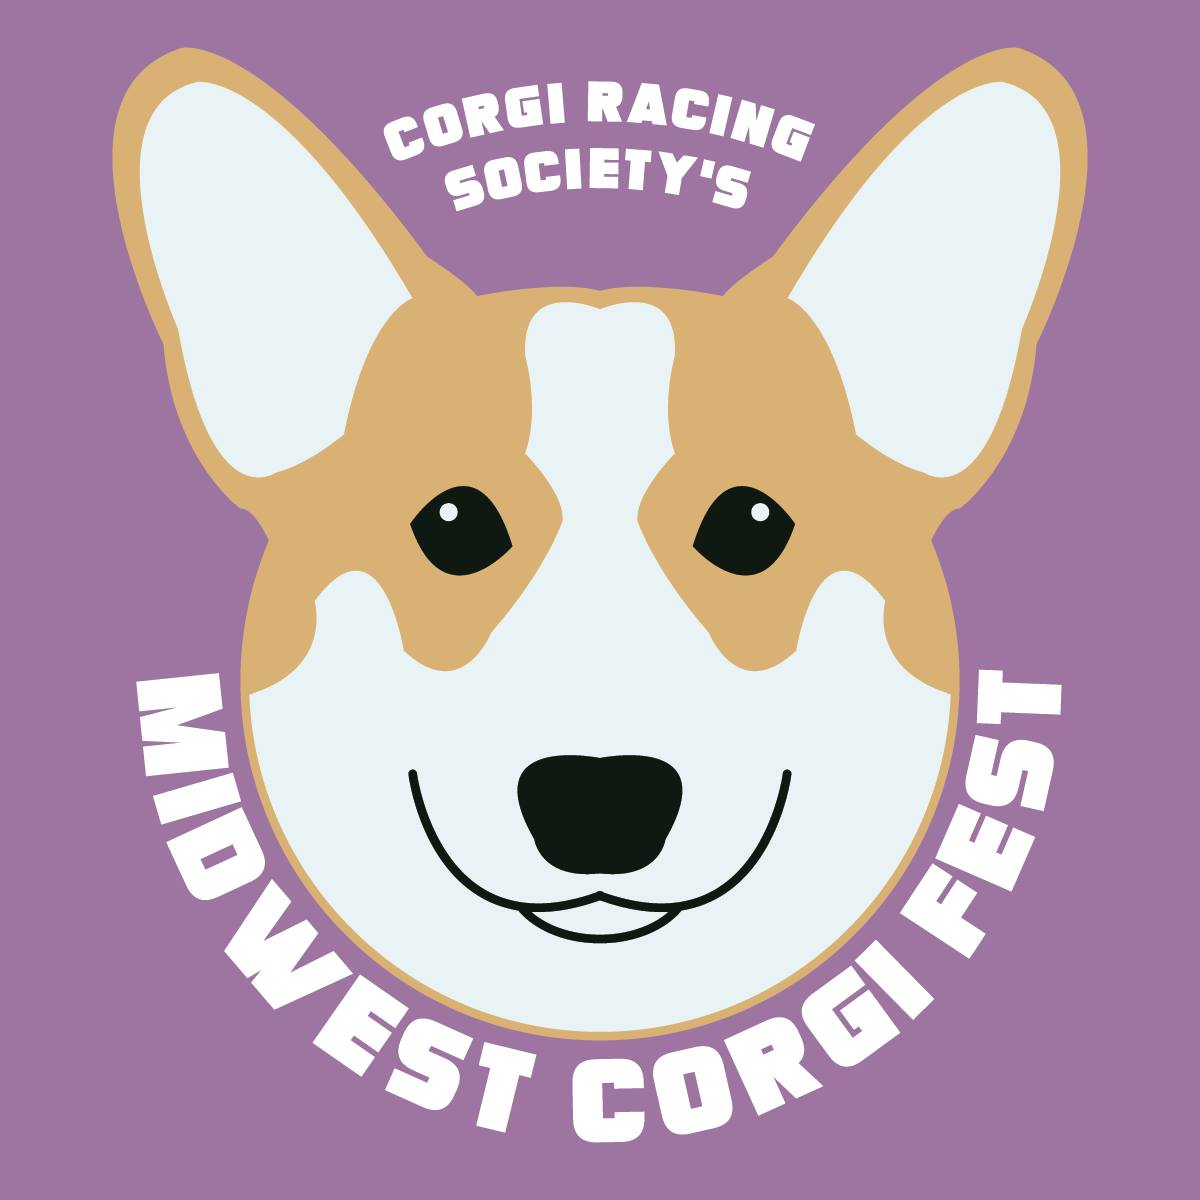corgi: (90, 30, 1112, 1036)
